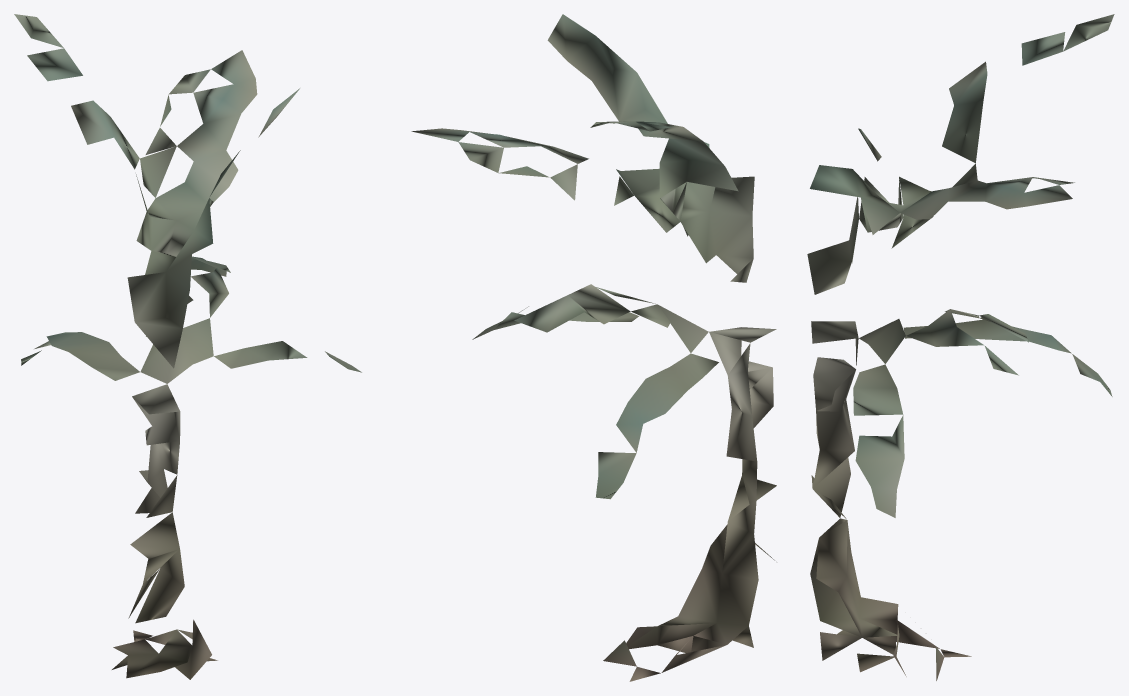
Rendered from verdant_palm_hero_v130_part2.gltf.
3 views of the same model, side by side, from view 1: azimuth 30°, elevation 25°; view 2: azimuth 150°, elevation 25°; view 3: azimuth 270°, elevation 25° (orthographic). The views are drawn at different scales.
Visible parts, largest first — view 1: verdant_palm_hero_v130Part2; view 2: verdant_palm_hero_v130Part2; view 3: verdant_palm_hero_v130Part2.
Part boxes in pixels (box(x1,y1,x2,y2)): verdant_palm_hero_v130Part2: box(14, 14, 361, 679); verdant_palm_hero_v130Part2: box(411, 14, 776, 681); verdant_palm_hero_v130Part2: box(807, 14, 1114, 680).
Size of the model in its own units: 0.4471 by 0.9468 by 0.4259.
